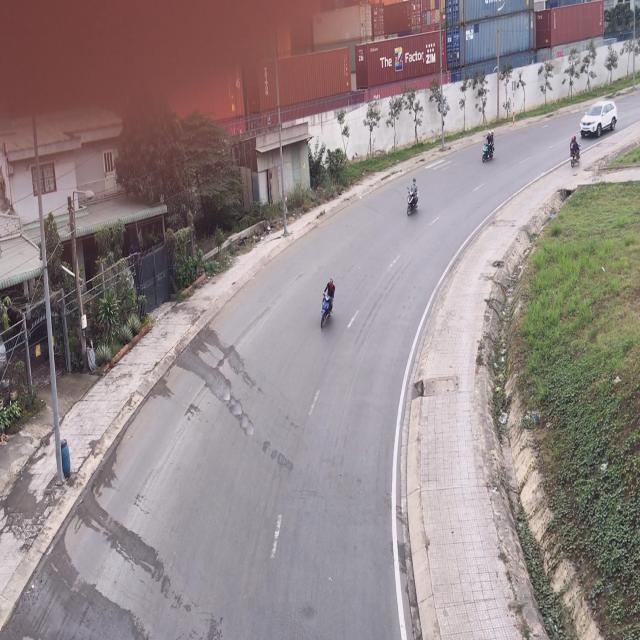car: (580, 102, 617, 142)
motorbike: (318, 278, 335, 331), (407, 177, 422, 221), (482, 128, 496, 163), (570, 134, 580, 170)
